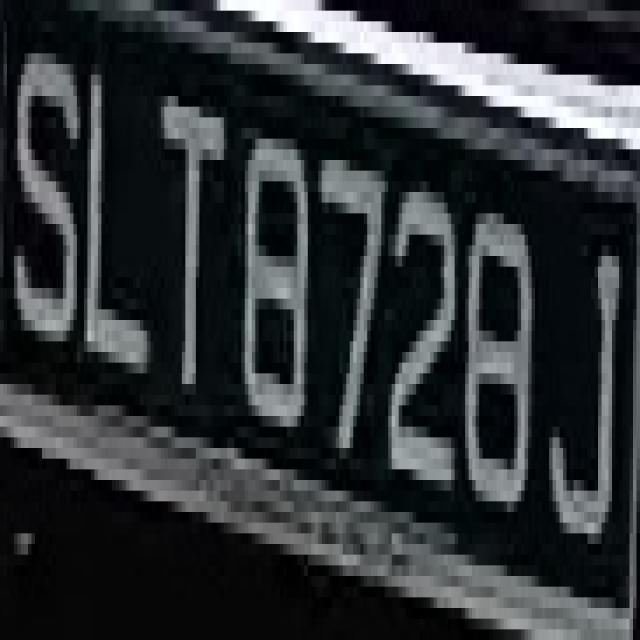2: (378, 128, 468, 533)
7: (308, 107, 388, 490)
8: (462, 171, 538, 544), (242, 85, 318, 448)
J: (542, 181, 630, 555)
L: (77, 32, 161, 416)
S: (7, 11, 80, 384)
T: (147, 53, 234, 416)
